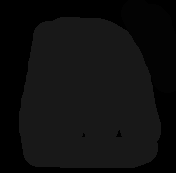fp: (5, 12, 174, 172)
